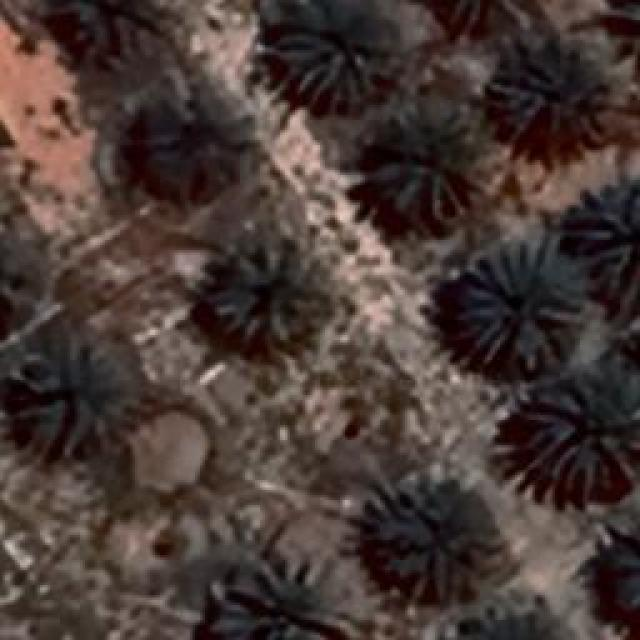PalmTree: (458, 235, 580, 370), (372, 478, 498, 600), (520, 367, 638, 495), (372, 100, 498, 218), (490, 30, 612, 135), (40, 358, 150, 472), (270, 2, 385, 108), (215, 547, 343, 635), (208, 245, 320, 345), (140, 91, 248, 189), (44, 0, 192, 68), (567, 176, 640, 295), (583, 529, 640, 635), (418, 0, 542, 44), (447, 596, 567, 640), (0, 225, 34, 340), (593, 0, 640, 75)
